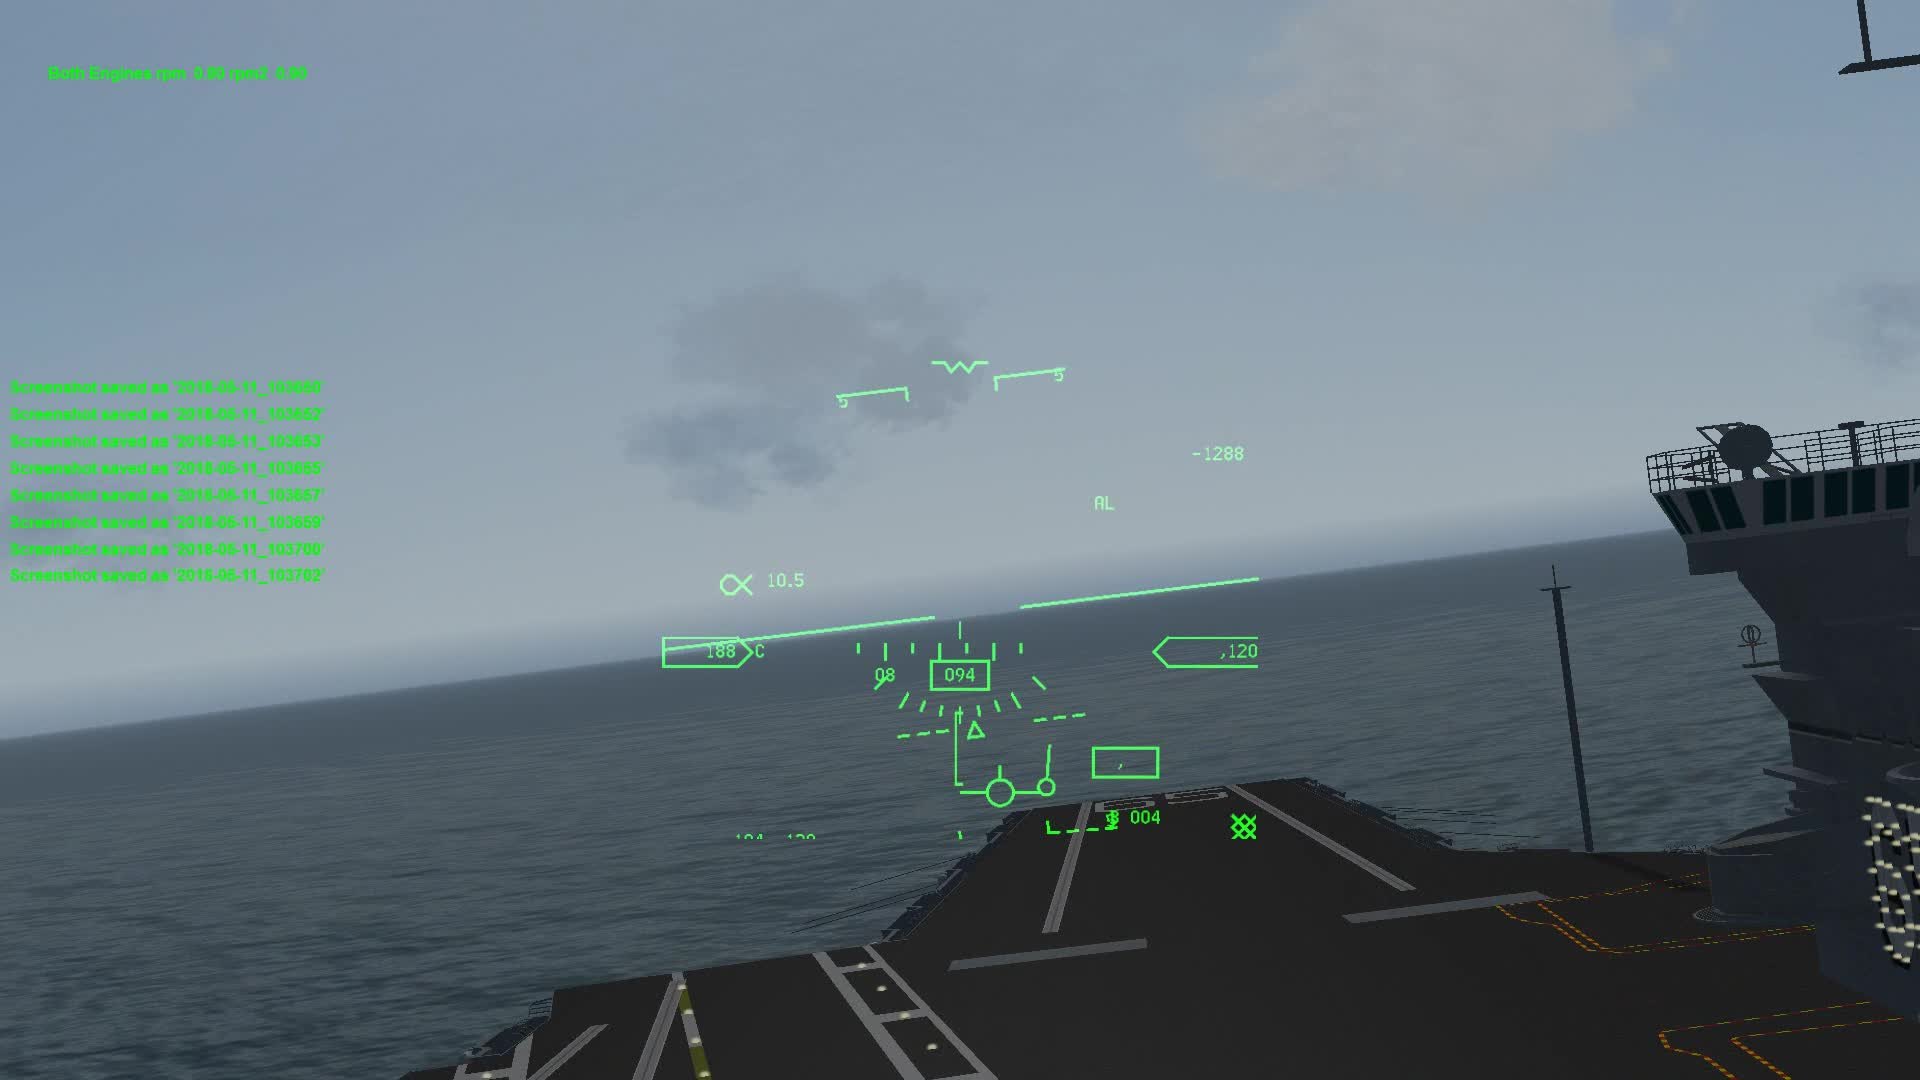speed vector: (963, 753, 1060, 814)
